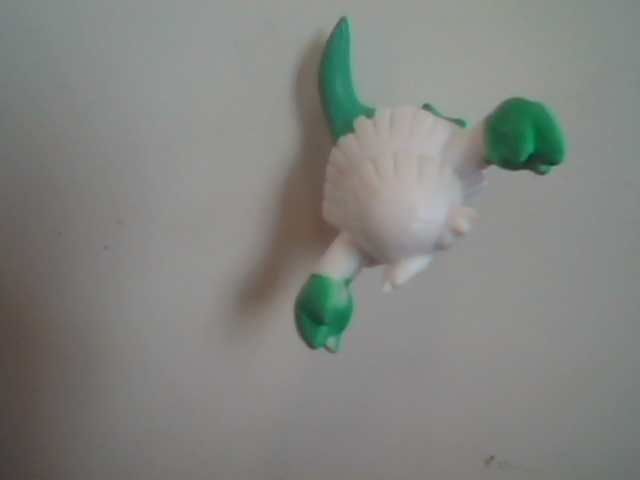abomasnow: (217, 24, 586, 362)
